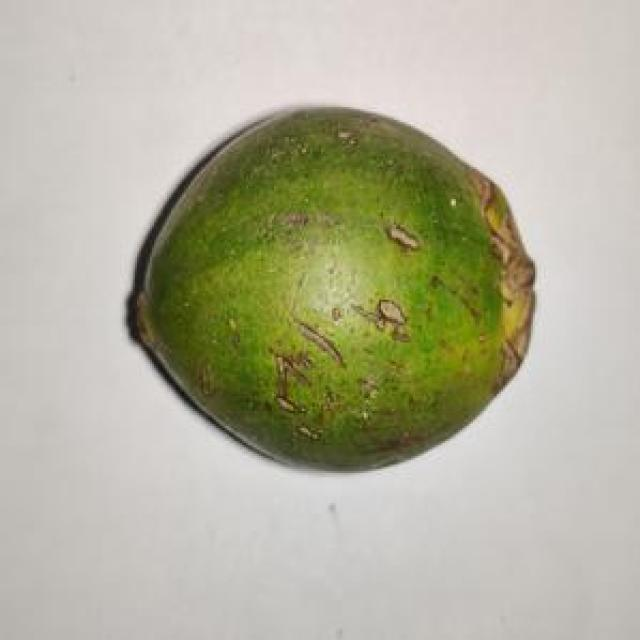damaged: (126, 109, 533, 469)
